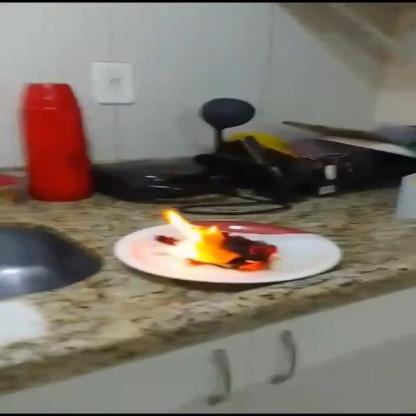fire: (162, 209, 234, 264)
